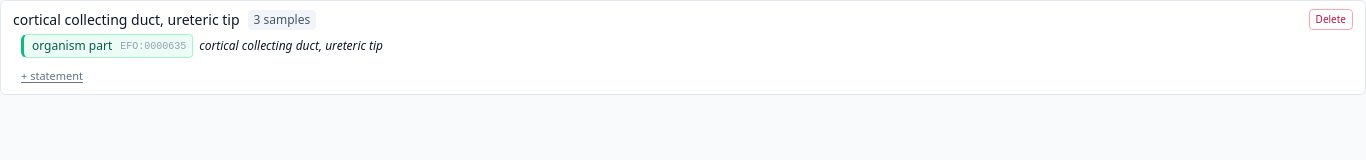
Test: a free-text factor value is editable where it is shown › opens an input when the value row is double-clicked
Double-click the button "cortical collecting duct, ureteric tip" in the row of "organism part" at (291, 46), box [199,37,383,54]
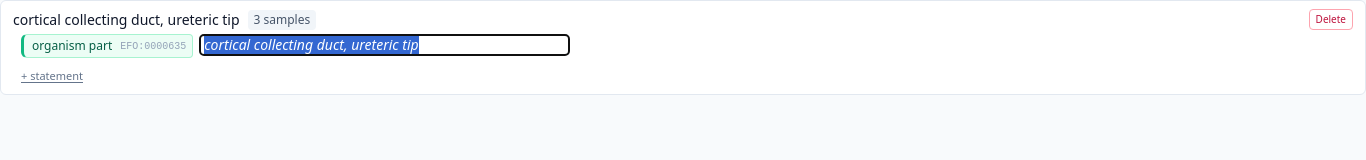
expect the field showing "cortical collecting duct, ureteric tip" is shown: met, box [199,34,570,56]
